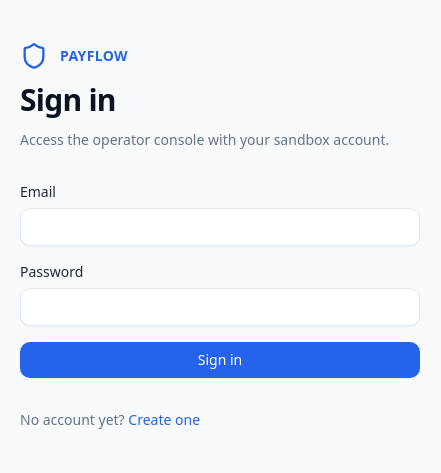
login and registration UI › shows server error on failed login
Expected: the heading "Sign in" is shown, 20,79 -> 116,120
Type "operator@example.com" into the field labelled "Email" at (220, 227), box 20,208 -> 420,246
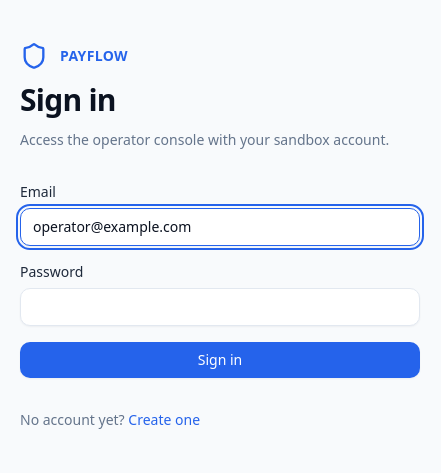
Type "WrongPass1!" into the password field labelled "Password" at (220, 307), box 20,288 -> 420,326
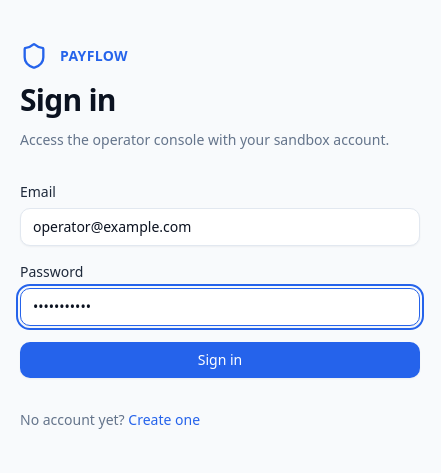
Click the button "Sign in" at (220, 360), box 20,342 -> 420,378
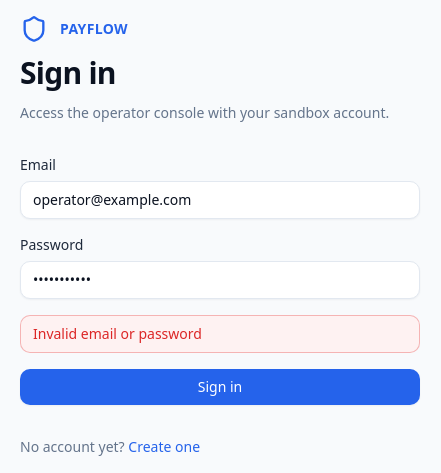
Expected: the heading "Sign in" is shown, 20,52 -> 116,93
Now the message reads "Invalid email or password", box 33,324 -> 202,343
